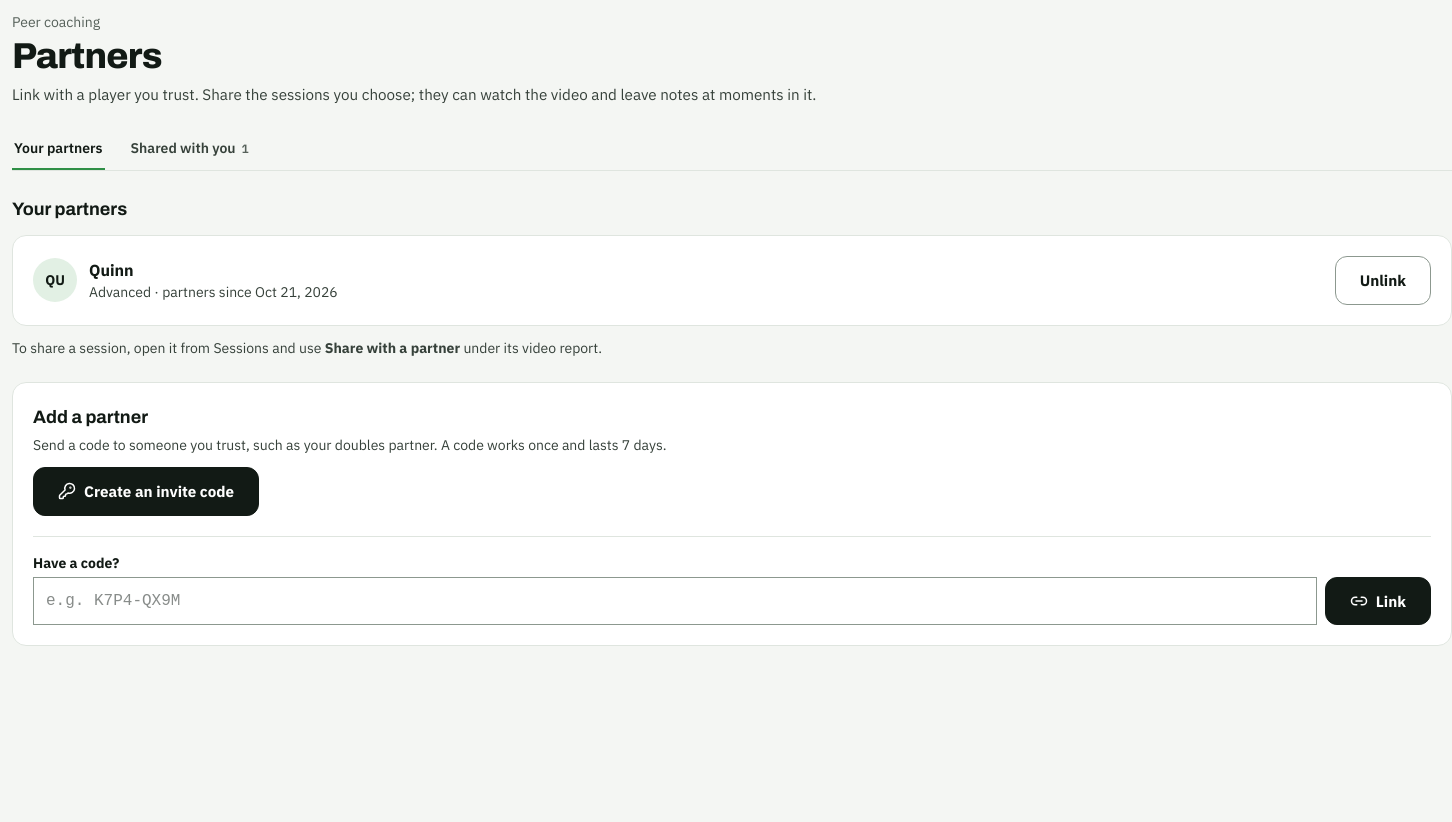
Partners › lists sessions partners shared, linking to each report
Click the tab "Shared with you1": (190, 149) left=128, top=127, right=251, bottom=171
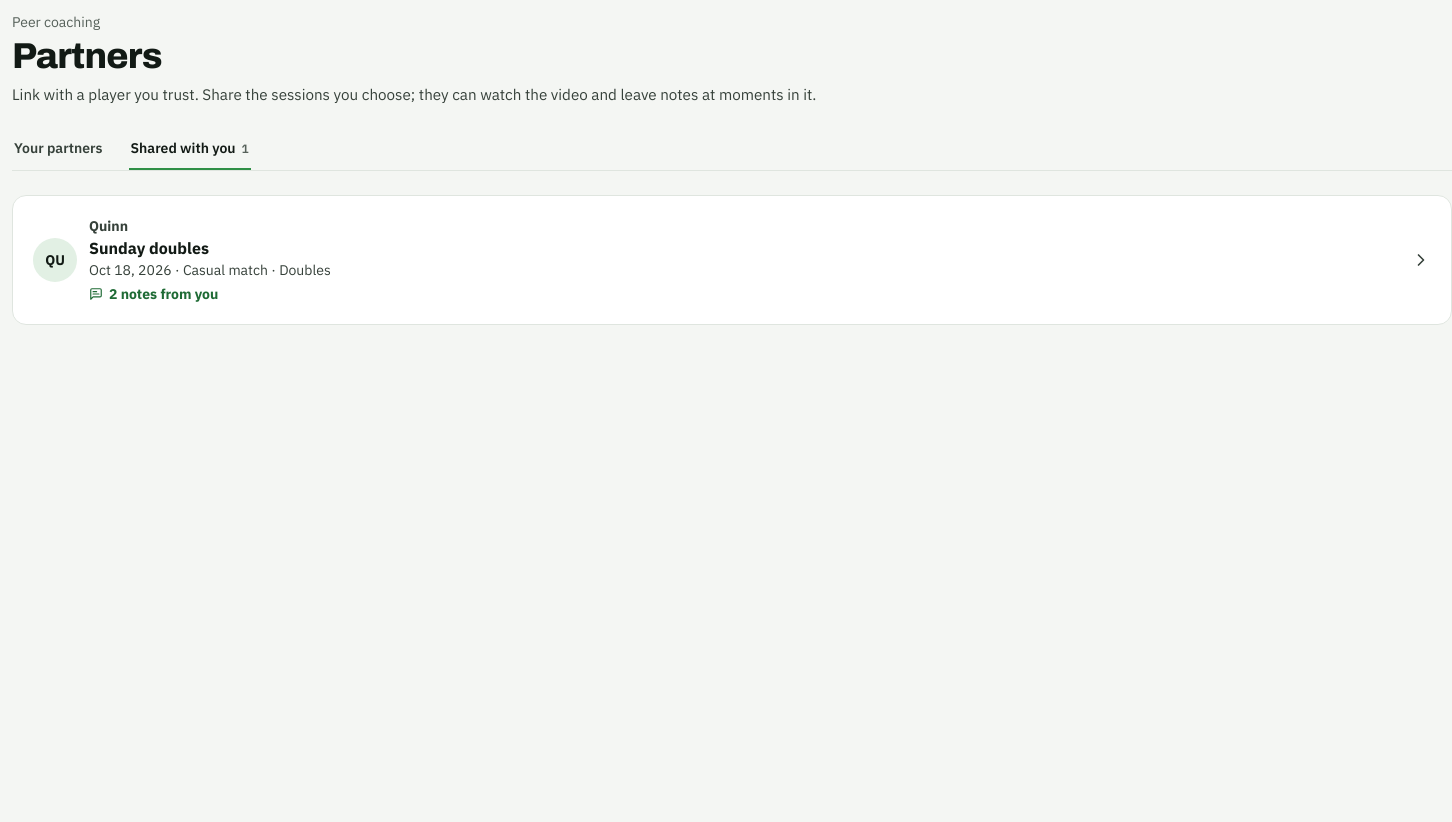
Expected: the text "2 notes from you" is shown, left=89, top=285, right=218, bottom=303
